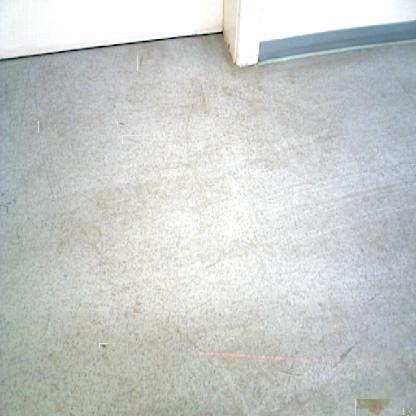liquid: (355, 398, 392, 416), (402, 408, 410, 416)
mark: (331, 344, 355, 368), (282, 364, 300, 381), (125, 132, 138, 146), (0, 195, 12, 210), (137, 55, 144, 71), (38, 121, 45, 133), (16, 230, 22, 240), (118, 121, 126, 128), (100, 342, 107, 349), (412, 163, 416, 168)
